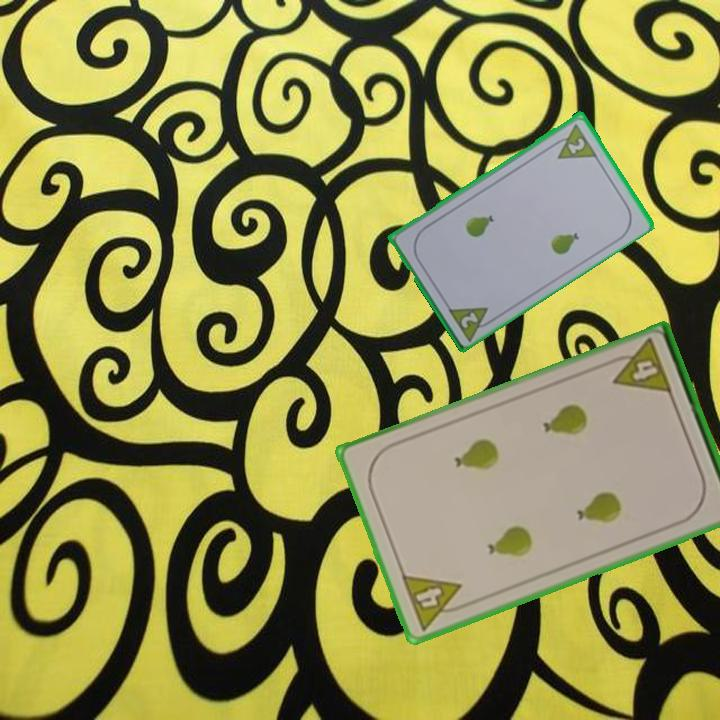2p: (547, 119, 600, 162), (444, 303, 498, 343)
4p: (397, 571, 471, 634), (604, 335, 675, 398)
